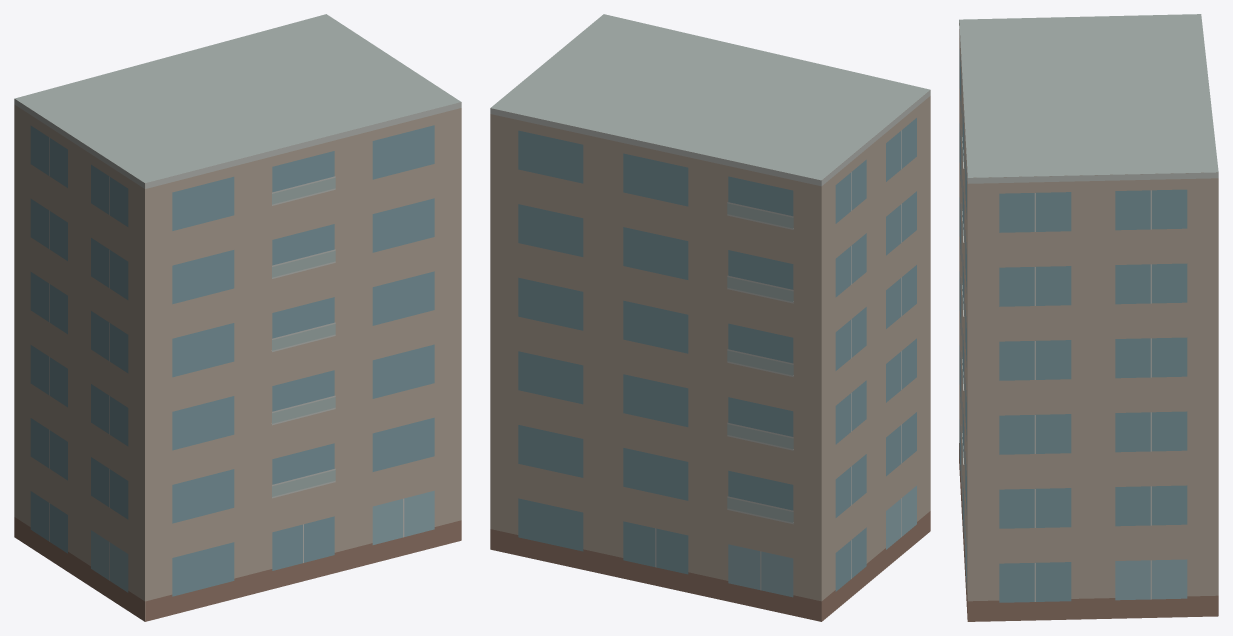
Rendered from survey-upis-32882316.glb.
The picture shows the model from 3 angles, left to right: view 1: azimuth 30°, elevation 25°; view 2: azimuth 150°, elevation 25°; view 3: azimuth 270°, elevation 25°; orthographic projection.
Visible parts, largest first — view 1: survey-upis-32882316.tmp; view 2: survey-upis-32882316.tmp; view 3: survey-upis-32882316.tmp.
Part boxes in pixels (bbox=[...]): survey-upis-32882316.tmp: bbox=[14, 14, 461, 621]; survey-upis-32882316.tmp: bbox=[490, 14, 930, 621]; survey-upis-32882316.tmp: bbox=[959, 14, 1218, 621].
Bounding box in the file's own units: 14.5 × 18.3 × 9.7.
